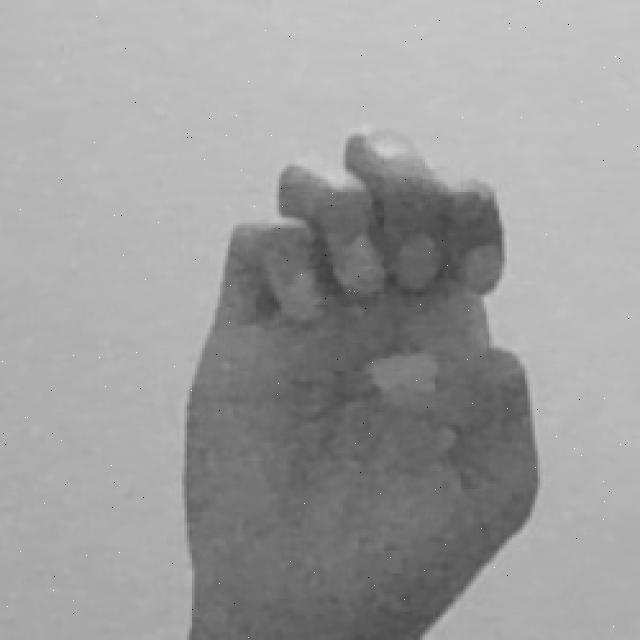E: (181, 123, 540, 640)
